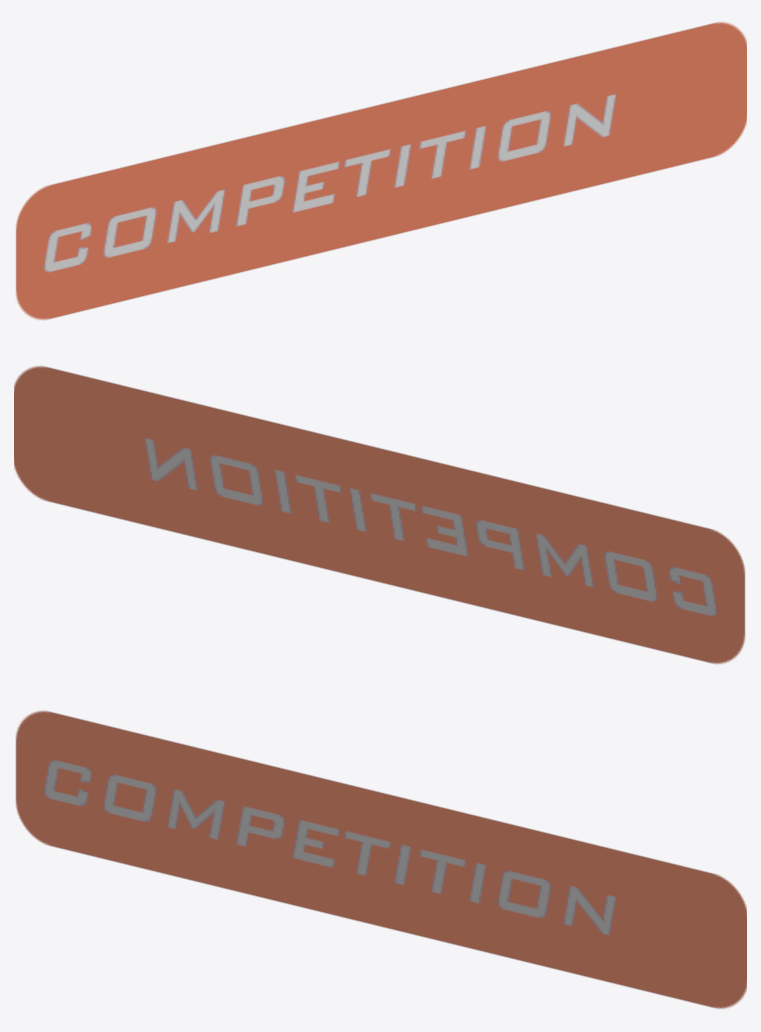
The model's file is competition.glb.
3 views of the same model, one above another, from view 1: azimuth 30°, elevation 25°; view 2: azimuth 150°, elevation 25°; view 3: azimuth 330°, elevation 25° (orthographic).
Parts seen in each view (by area): view 1: option_1_2_competition.003; view 2: option_1_2_competition.003; view 3: option_1_2_competition.003.
Boxes of the visible parts, <box> form: option_1_2_competition.003: <box>15,21,746,320</box>; option_1_2_competition.003: <box>14,365,745,664</box>; option_1_2_competition.003: <box>15,710,746,1008</box>.
Size of the model in its own units: 4.2 by 0.75 by 3.25e-07.
1 material, 1 textured.
